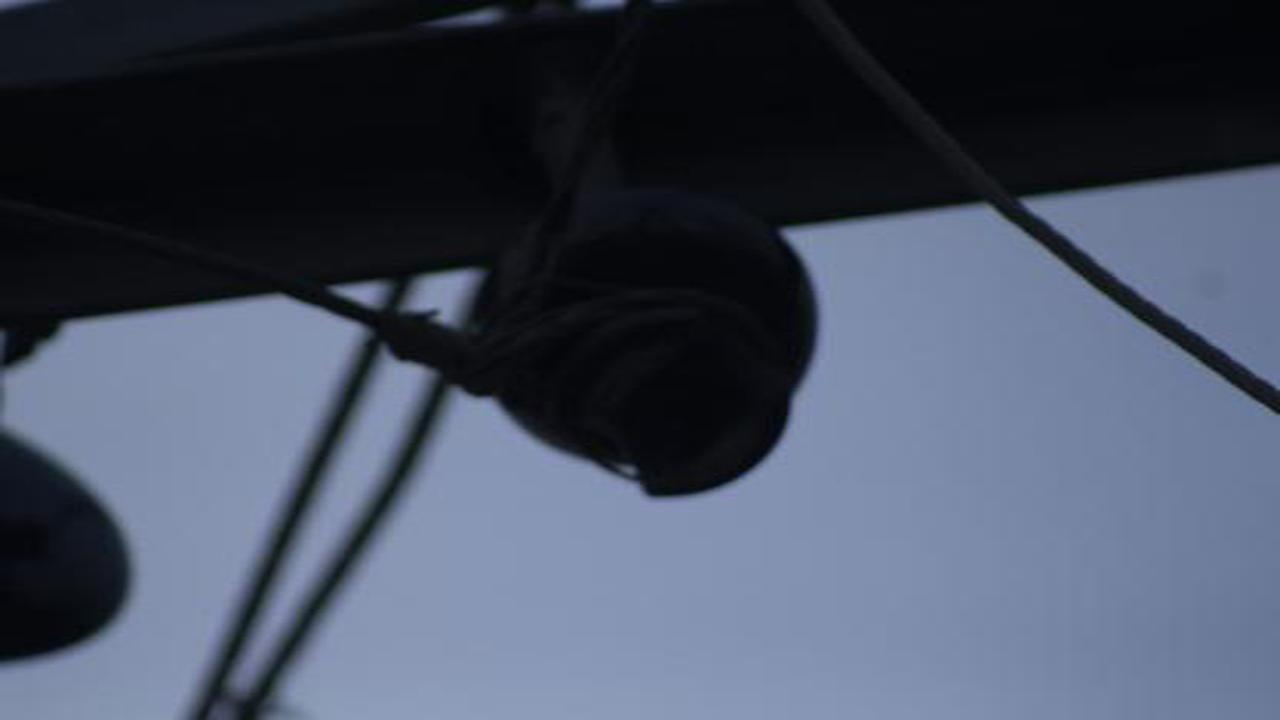insulator_pin: (477, 166, 844, 520)
